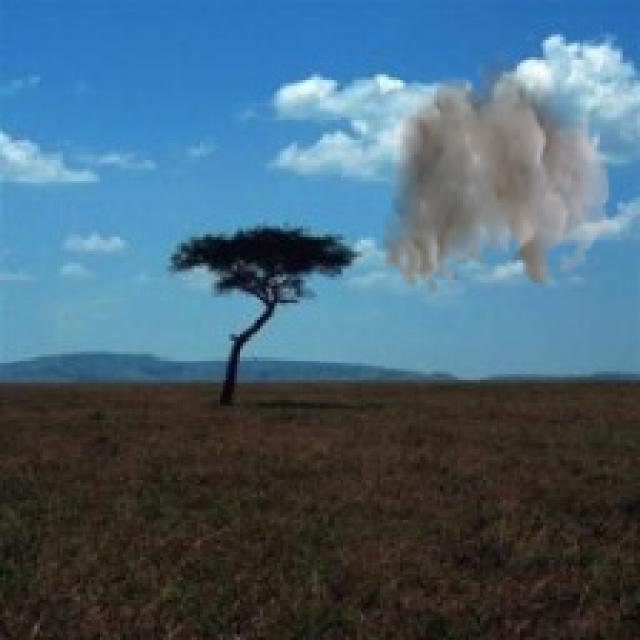smoke: (380, 46, 611, 294)
